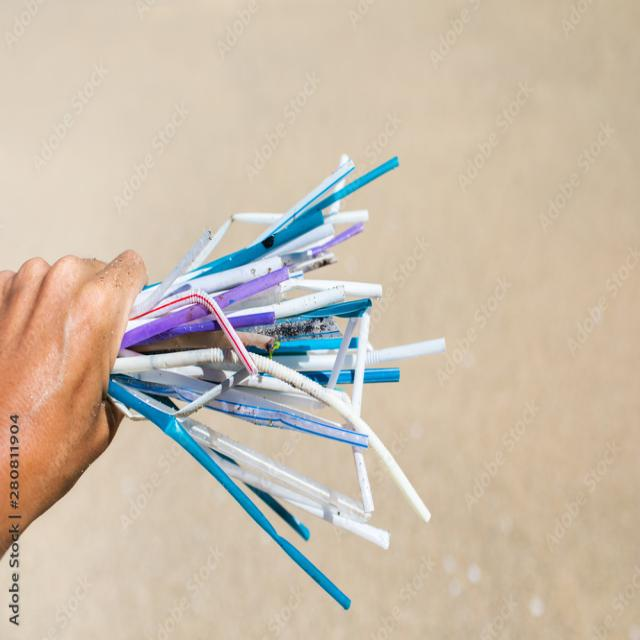plastic: (139, 280, 253, 386)
